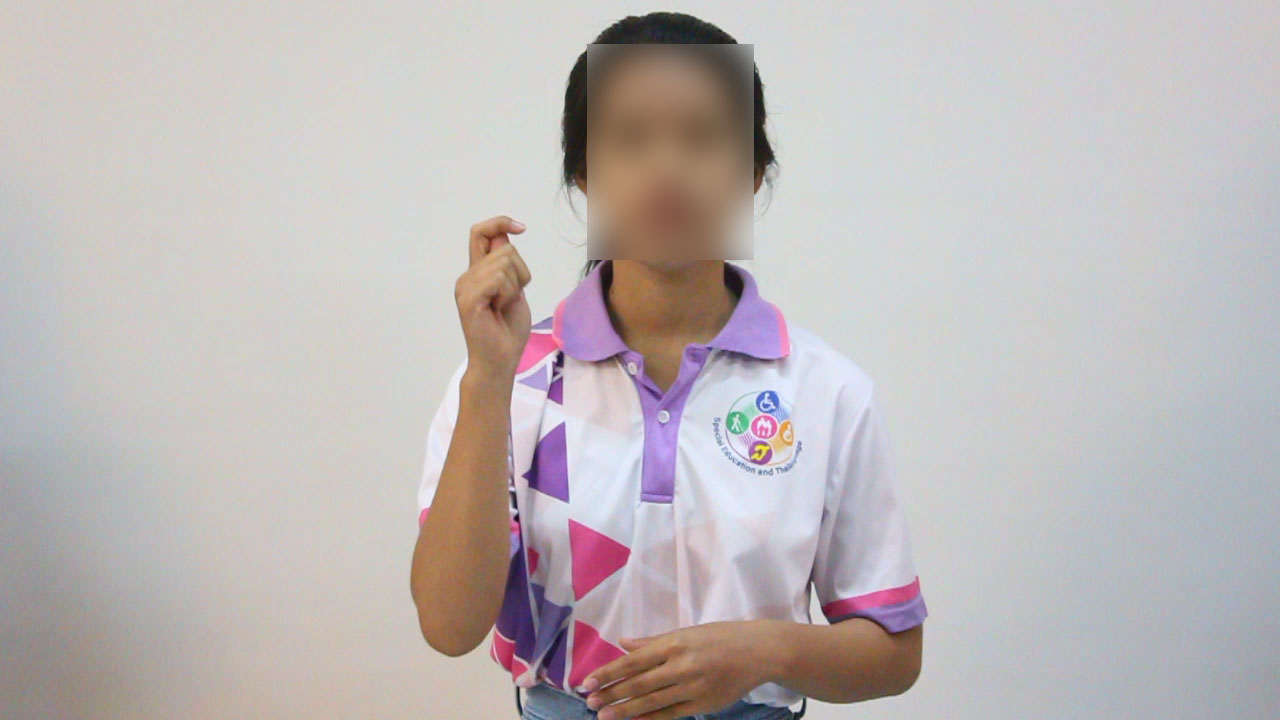or: (453, 208, 545, 379)
